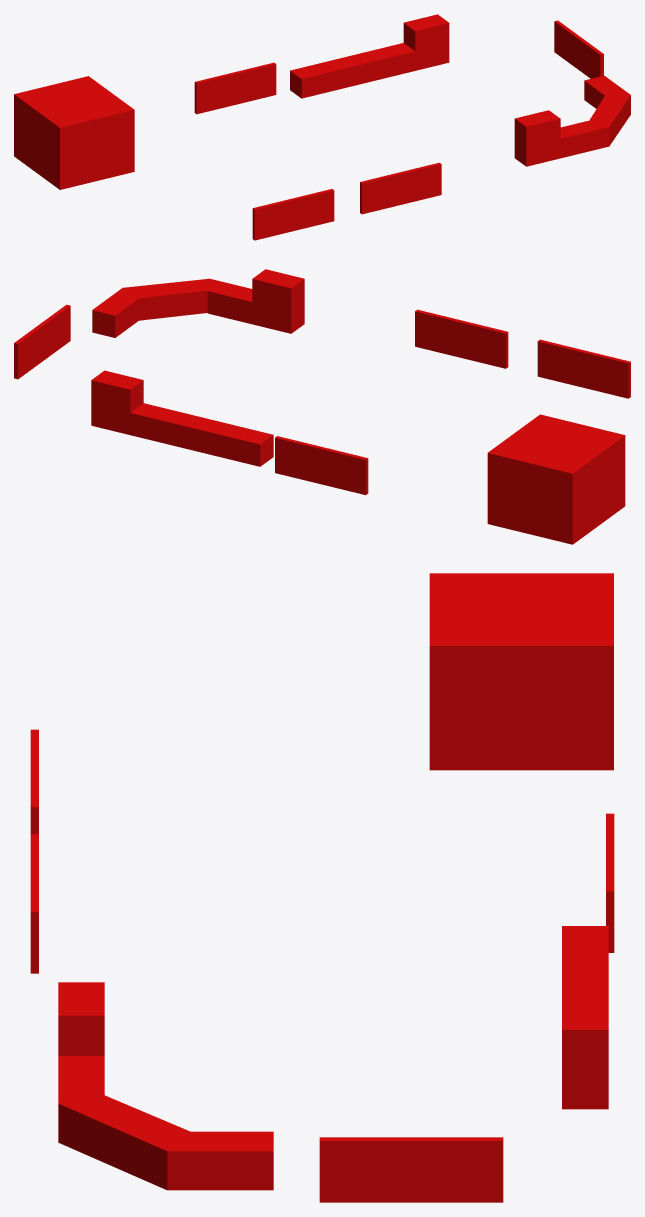
Rendered from SM_Bld_Commercial_Medium_01_Attachments_01_Collision.fbx.
The picture shows the model from 3 angles, top to bottom: view 1: azimuth 30°, elevation 25°; view 2: azimuth 150°, elevation 25°; view 3: azimuth 270°, elevation 25°; orthographic projection. The views are drawn at different scales.
Parts seen in each view (by area): view 1: SM_Bld_Commercial_Medium_01_Attachments_01_Collision; view 2: SM_Bld_Commercial_Medium_01_Attachments_01_Collision; view 3: SM_Bld_Commercial_Medium_01_Attachments_01_Collision.
Part boxes in pixels (box(x1,y1,x2,y2)): SM_Bld_Commercial_Medium_01_Attachments_01_Collision: box(14, 14, 630, 240); SM_Bld_Commercial_Medium_01_Attachments_01_Collision: box(14, 269, 630, 544); SM_Bld_Commercial_Medium_01_Attachments_01_Collision: box(30, 573, 614, 1202).
Size of the model in its own units: 2216 by 258 by 1085.
